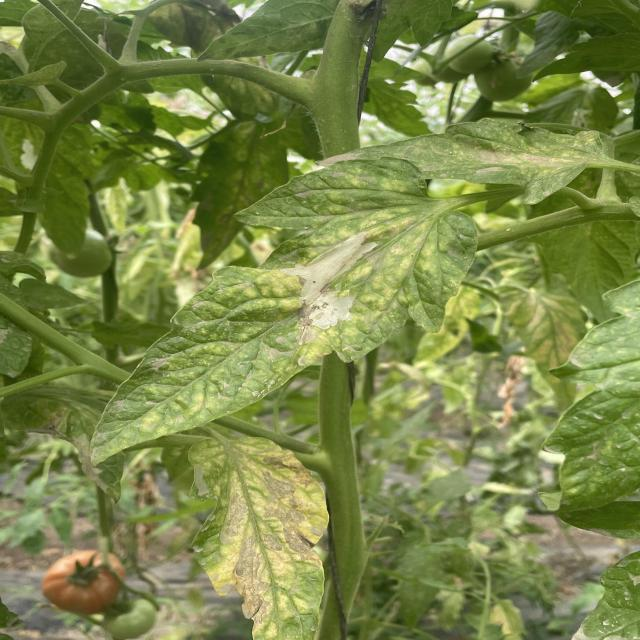Tuta absoluta: (268, 228, 401, 345)
